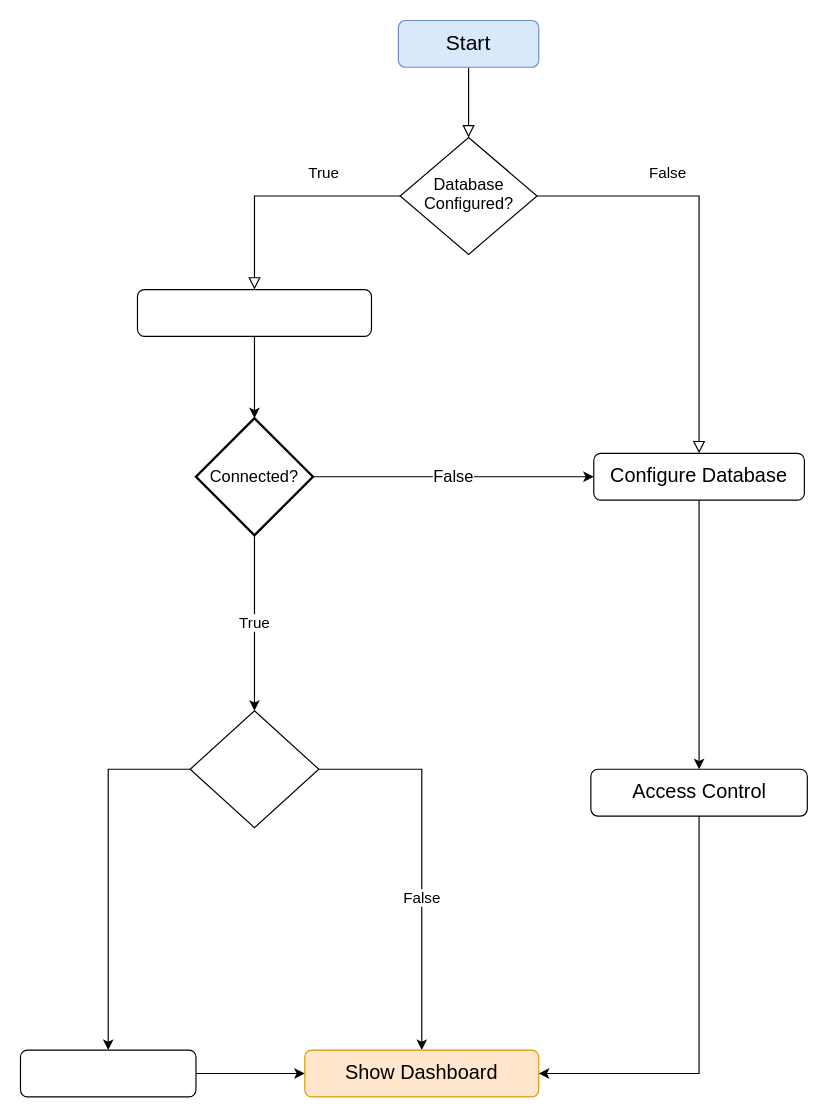
The diagram is 828 pixels wide and 1117 high, and some of its shapes have lost their labels. Each missing label, with the centre of its shape:
Login: (107,1073)
Login Required: (254,769)
Try to Connect to Database: (253,312)
